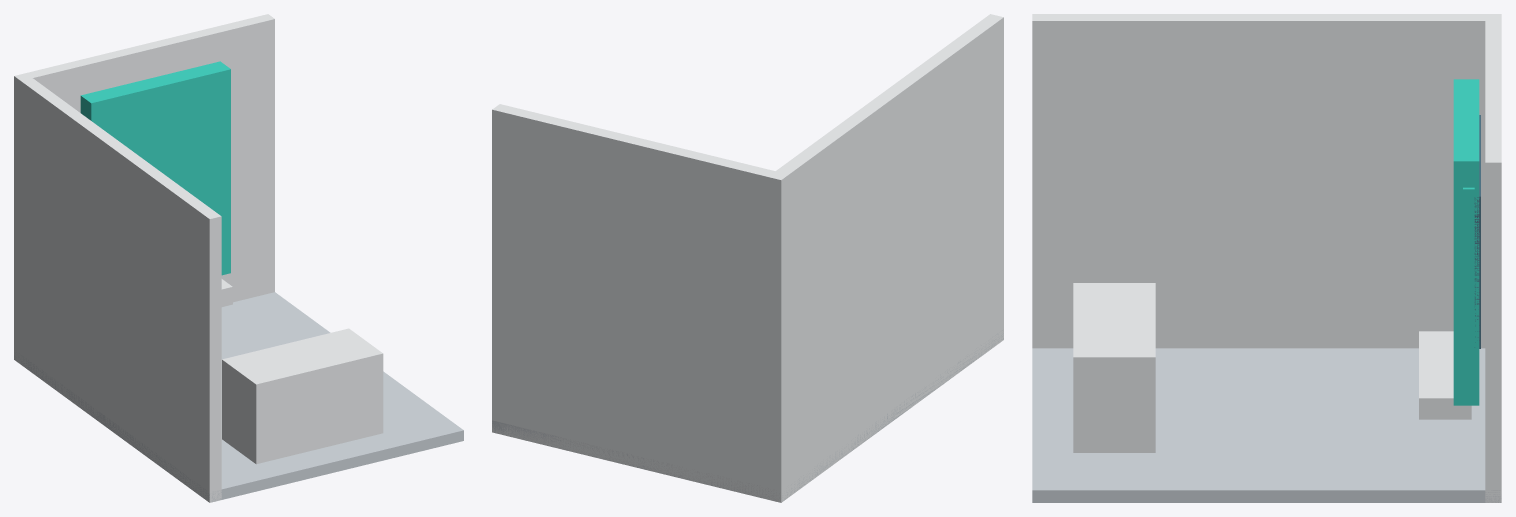
3 views of the same model, side by side, from view 1: azimuth 30°, elevation 25°; view 2: azimuth 150°, elevation 25°; view 3: azimuth 270°, elevation 25° (orthographic). The views are drawn at different scales.
Parts seen in each view (by area): view 1: Exhibition Booth Concept; view 2: Exhibition Booth Concept; view 3: Exhibition Booth Concept.
Boxes of the visible parts, x1=… form: Exhibition Booth Concept: x1=14, y1=14, x2=463, y2=502; Exhibition Booth Concept: x1=492, y1=14, x2=1003, y2=502; Exhibition Booth Concept: x1=1032, y1=14, x2=1501, y2=502.
Size of the model in its own units: 3 by 3.2 by 4.
